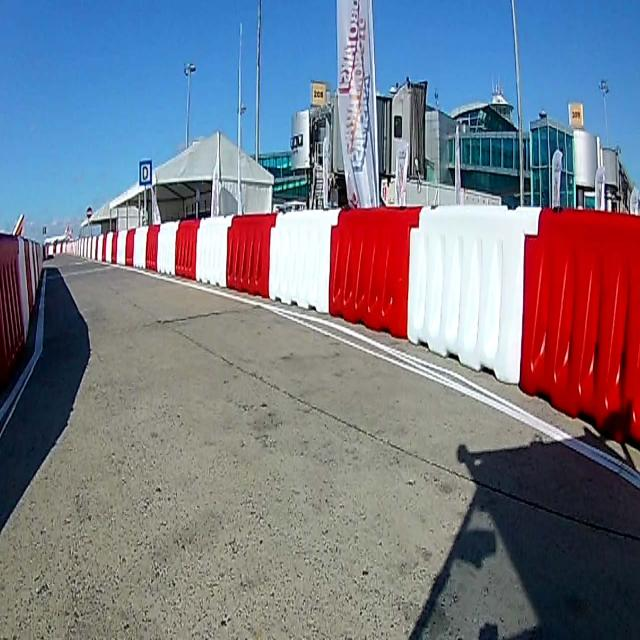durak: (139, 160, 151, 187)
